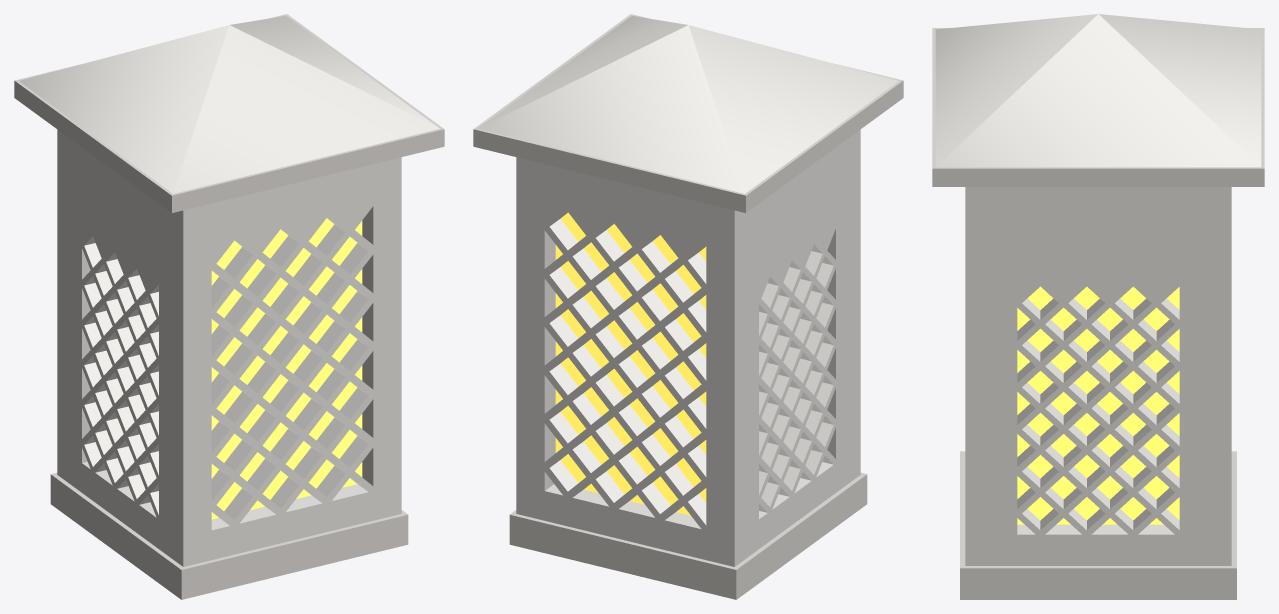
3 views of the same model, side by side, from view 1: azimuth 30°, elevation 25°; view 2: azimuth 150°, elevation 25°; view 3: azimuth 270°, elevation 25° (orthographic). The views are drawn at different scales.
Parts seen in each view (by area): view 1: paroi-avant, toit-pyramide, paroi-gauche, socle, lumiere-foyer, toit-corniche, paroi-arriere; view 2: paroi-arriere, toit-pyramide, paroi-gauche, socle, lumiere-foyer, toit-corniche, paroi-avant; view 3: paroi-droite, toit-pyramide, lumiere-foyer, socle, paroi-avant, paroi-arriere, toit-corniche.
Boxes of the visible parts, x1,y1,x2,y2 form: paroi-avant: [172, 157, 401, 566]; toit-pyramide: [19, 16, 439, 193]; paroi-gauche: [68, 137, 172, 558]; socle: [50, 472, 408, 599]; lumiere-foyer: [211, 218, 362, 519]; toit-corniche: [14, 14, 444, 212]; paroi-arriere: [57, 129, 68, 482]; paroi-arriere: [516, 157, 745, 566]; toit-pyramide: [478, 16, 898, 193]; paroi-gauche: [745, 137, 849, 558]; socle: [509, 472, 867, 599]; lumiere-foyer: [555, 212, 706, 515]; toit-corniche: [473, 14, 903, 212]; paroi-avant: [849, 129, 860, 482]; paroi-droite: [988, 187, 1208, 565]; toit-pyramide: [935, 14, 1261, 167]; lumiere-foyer: [1017, 286, 1179, 524]; socle: [960, 451, 1236, 599]; paroi-avant: [965, 187, 988, 565]; paroi-arriere: [1208, 187, 1231, 565]; toit-corniche: [932, 28, 1264, 186].
Bounding box in the file's own units: 0.4 × 0.7 × 0.4.
